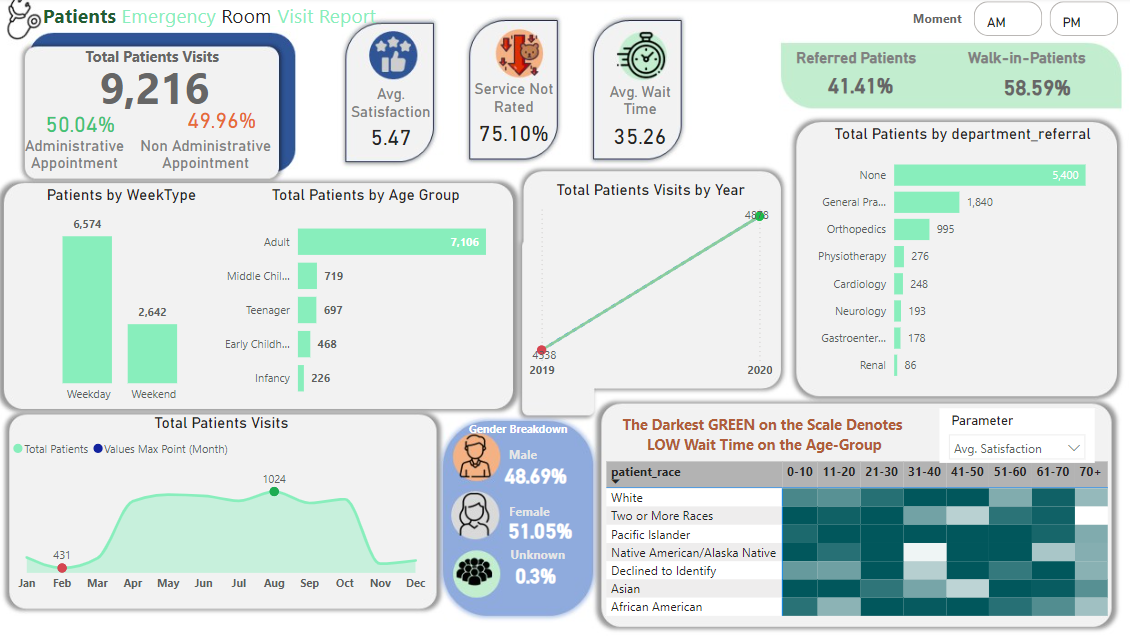

Layout of this report page (visuals, bound fields, positions):
{"tool":"powerbi","page":{"name":"Page 1","canvas":[1280,720],"ordinal":0},"visuals":[{"type":"card","fields":{"Values":["Calculation.Total Pateints"]},"box":[49.4,49.4,258,98.8],"z":0},{"type":"card","fields":{"Values":["Calculation.%None - Administrative  Schedule"]},"box":[177,91.9,150.9,86.4],"z":1000},{"type":"card","fields":{"Values":["Calculation.% Administrative  Schedule"]},"box":[27.4,68.6,138.6,141.3],"z":2000},{"type":"card","title":"Avg. Satisfaction ","fields":{"Values":["Calculation.Average Satisfaction Score"]},"box":[384.2,96.1,107,75.5],"z":3000},{"type":"card","title":"Service Not Rated ","fields":{"Values":["Calculation.% No Rating"]},"box":[521.4,90.6,102.9,78.2],"z":4000},{"type":"pivotTable","fields":{"Values":["Calculation.Average Satisfaction Score"],"Rows":["Patients Dataset.patient_race"],"Columns":["Patients Dataset.Age Buckets"]},"box":[670.2,505,562.6,186.6],"z":5000},{"type":"slicer","fields":{"Values":["Parameter.Parameter"]},"box":[1040.4,451.2,170.2,60.4],"z":6000},{"type":"advancedSlicerVisual","title":"Moment","fields":{"Values":["Patients Dataset.Moment"]},"box":[1072.8,0.3,168.8,48],"z":7000},{"type":"lineChart","title":"Total Patients Visits","fields":{"Category":["Date.Month"],"Y":["Calculation.Total Patients","Calculation.Values Max Point (Month)"]},"box":[17.8,456.9,467.9,204.5],"z":8000},{"type":"lineChart","title":"Total Patients Visits  by Year","fields":{"Category":["Date.Year"],"Y":["Calculation.Values Max Point (Year)","Calculation.Total Patients"]},"box":[584.6,201.7,277.2,226.4],"z":9000},{"type":"clusteredBarChart","fields":{"Y":["Calculation.Total Patients"],"Category":["Patients Dataset.department_referral"]},"box":[890.6,140,349.9,293.7],"z":10000},{"type":"card","fields":{"Values":["Calculation.% Un Referred Patients"]},"box":[1092.3,67.2,109.8,64.5],"z":11000},{"type":"card","fields":{"Values":["Calculation.% Referred Patients"]},"box":[890.6,67.2,126.2,60.4],"z":12000},{"type":"card","fields":{"Values":["Calculation.HitMap Caption"]},"box":[655.9,448.7,384.2,61.7],"z":13000},{"type":"textbox","box":[20.6,148.2,144.1,72.7],"z":14000},{"type":"textbox","box":[150.9,148.2,171.5,161.9],"z":15000},{"type":"card","title":"Avg. Wait Time","fields":{"Values":["Calculation.Average Wait Time"]},"box":[662.8,93.3,97.4,79.6],"z":16000},{"type":"textbox","box":[848,52.1,205.8,46.7],"z":17000},{"type":"textbox","box":[1036,52.1,204.5,46.7],"z":18000},{"type":"columnChart","title":"Patients by WeekType","fields":{"Y":["Calculation.Total Patients"],"Category":["Date.WeekType"]},"box":[8.2,207.2,267.6,247],"z":19000},{"type":"clusteredBarChart","fields":{"Category":["Patients Dataset.Age Group"],"Y":["Calculation.Total Patients"]},"box":[236,207.2,348.5,247],"z":20000},{"type":"card","fields":{"Values":["Calculation.MALE Visit"]},"box":[555.7,550.3,91.9,71.4],"z":21000},{"type":"card","fields":{"Values":["Calculation.% UNKNOWN"]},"box":[531,598.3,131.7,75.5],"z":22000},{"type":"card","fields":{"Values":["Calculation.FEMALE Visit"]},"box":[531,488.5,131.7,75.5],"z":23000},{"type":"textbox","box":[97.4,49.4,171.5,46.7],"z":24000},{"type":"textbox","box":[518.7,459.7,156.4,28.8],"z":25000},{"type":"textbox","box":[537.9,488.5,93.3,48],"z":26000},{"type":"textbox","box":[562.6,550.3,76.8,48],"z":27000},{"type":"textbox","box":[564,598.3,111.1,46.7],"z":28000},{"type":"textbox","box":[1006.4,10.2,81.8,43.4],"z":29000},{"type":"textbox","box":[50.8,0,404.8,42.5],"z":29001}]}

Visuals, with their boxes in screenshot pixels (x1, y1, x2, y2), scaled from the page's 1280x720 canvas onto the 1130x637 screenshot:
card - Calculation.Total Pateints: [44, 44, 271, 131]
card - Calculation.%None - Administrative  Schedule: [156, 81, 289, 158]
card - Calculation.% Administrative  Schedule: [24, 61, 147, 186]
"Avg. Satisfaction " card: [339, 85, 434, 152]
"Service Not Rated " card: [460, 80, 551, 149]
pivotTable - Calculation.Average Satisfaction Score x Patients Dataset.patient_race: [592, 447, 1088, 612]
slicer - Parameter.Parameter: [918, 399, 1069, 453]
"Moment" advancedSlicerVisual: [947, 0, 1096, 43]
"Total Patients Visits" lineChart: [16, 404, 429, 585]
"Total Patients Visits  by Year" lineChart: [516, 178, 761, 379]
clusteredBarChart - Calculation.Total Patients x Patients Dataset.department_referral: [786, 124, 1095, 384]
card - Calculation.% Un Referred Patients: [964, 59, 1061, 117]
card - Calculation.% Referred Patients: [786, 59, 898, 113]
card - Calculation.HitMap Caption: [579, 397, 918, 452]
textbox: [18, 131, 145, 195]
textbox: [133, 131, 285, 274]
"Avg. Wait Time" card: [585, 83, 671, 153]
textbox: [749, 46, 930, 87]
textbox: [915, 46, 1095, 87]
"Patients by WeekType" columnChart: [7, 183, 243, 402]
clusteredBarChart - Patients Dataset.Age Group x Calculation.Total Patients: [208, 183, 516, 402]
card - Calculation.MALE Visit: [491, 487, 572, 550]
card - Calculation.% UNKNOWN: [469, 529, 585, 596]
card - Calculation.FEMALE Visit: [469, 432, 585, 499]
textbox: [86, 44, 237, 85]
textbox: [458, 407, 596, 432]
textbox: [475, 432, 557, 475]
textbox: [497, 487, 564, 529]
textbox: [498, 529, 596, 571]
textbox: [888, 9, 961, 47]
textbox: [45, 0, 402, 38]
